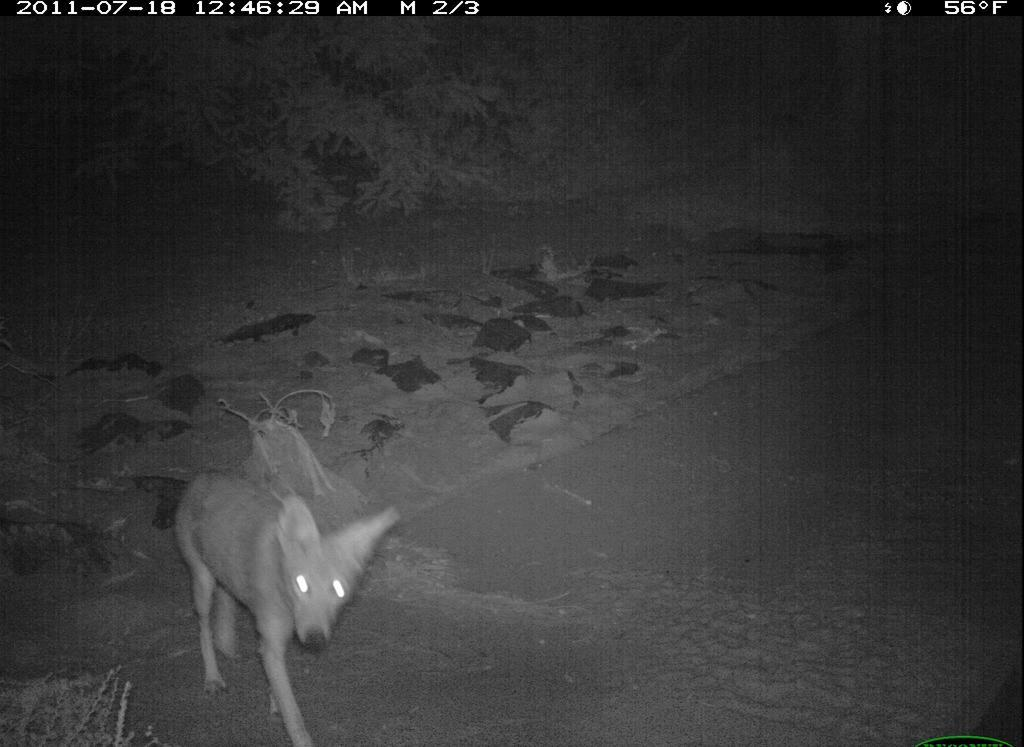coyote: (172, 463, 409, 747)
